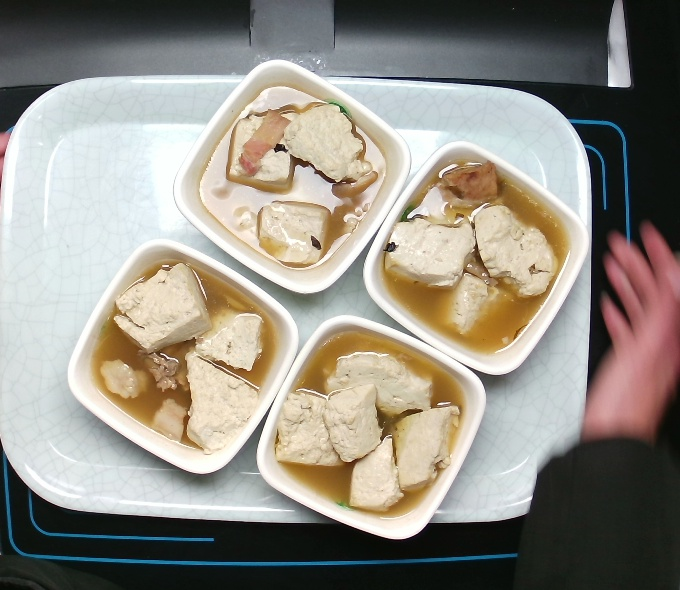wcq-DouFuRouTang: (267, 325, 472, 526), (83, 252, 277, 460), (376, 157, 574, 356), (192, 86, 386, 279)
